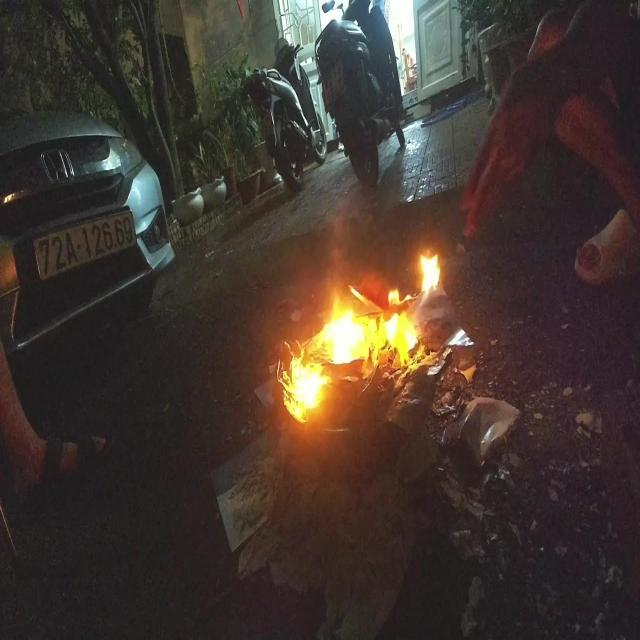Fire: (277, 248, 442, 422)
